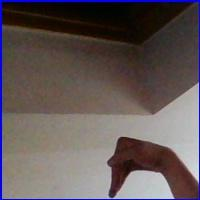A: (102, 136, 167, 198)
